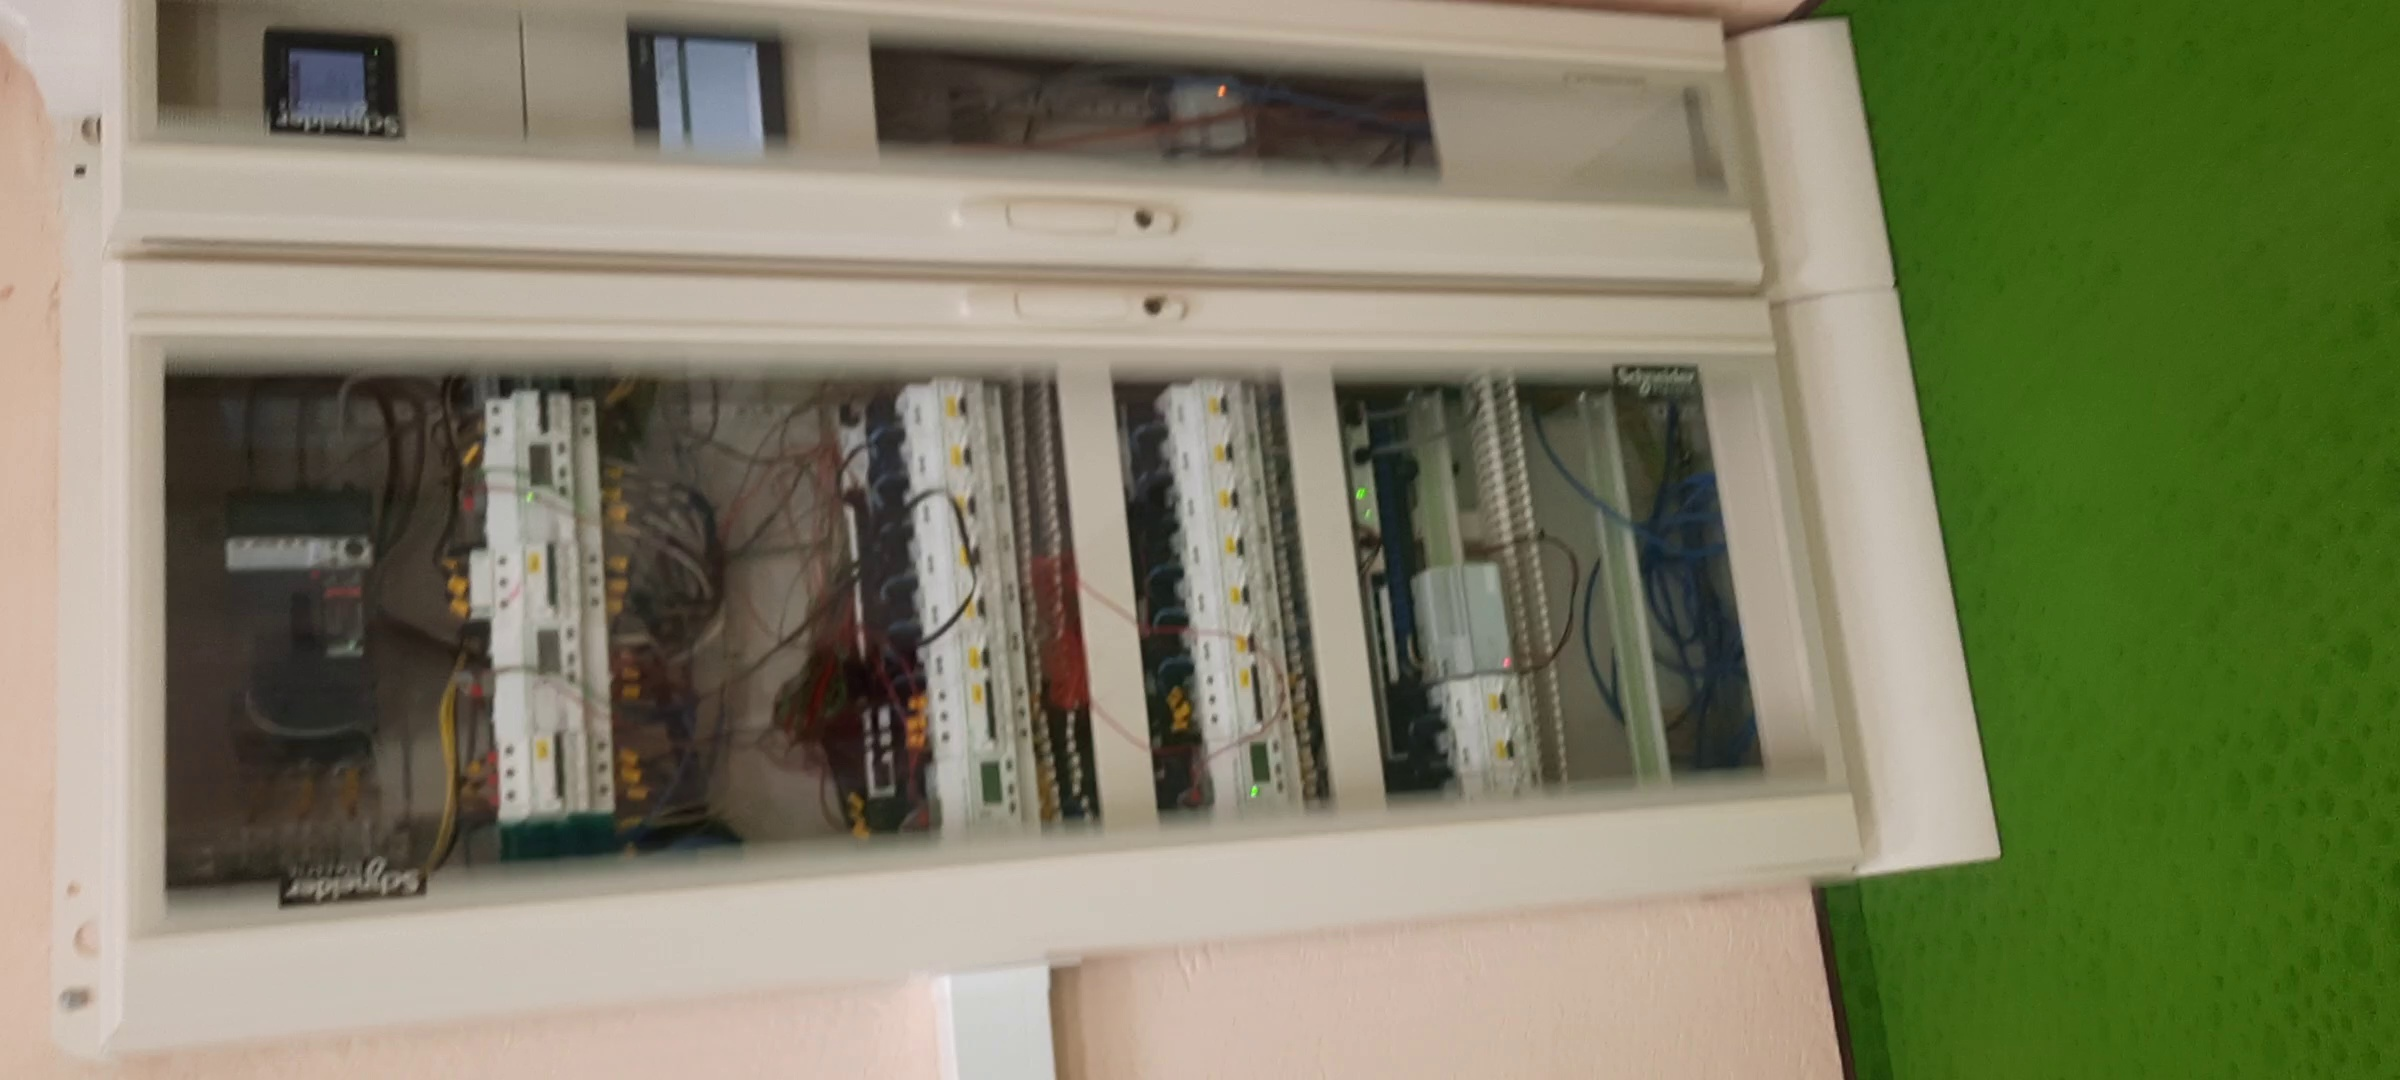stand1: (75, 2, 1938, 999)
